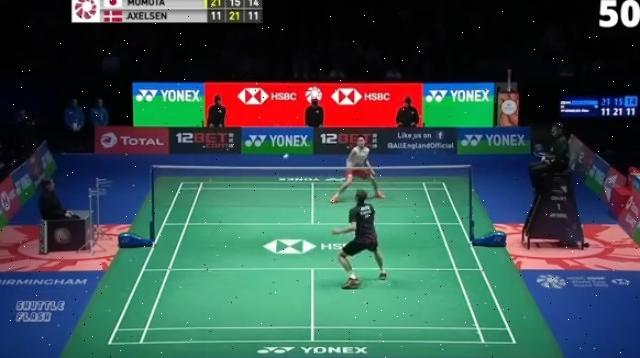Shuttlecock: (282, 152, 292, 160)
